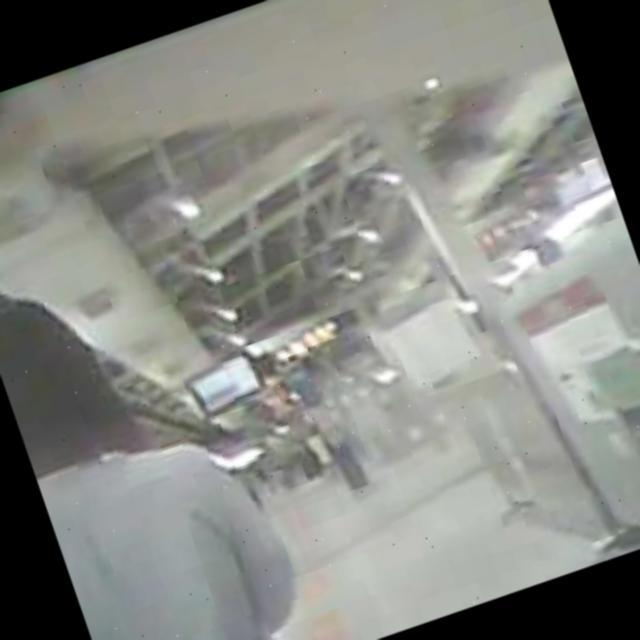person: (0, 241, 324, 640), (290, 367, 372, 499)
